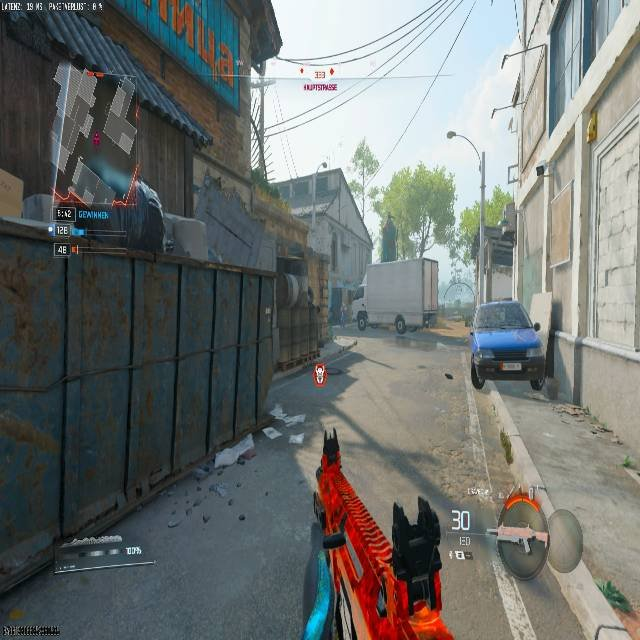player: (354, 299, 369, 335)
